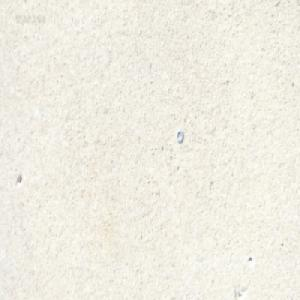Washer: (175, 129, 183, 144)
